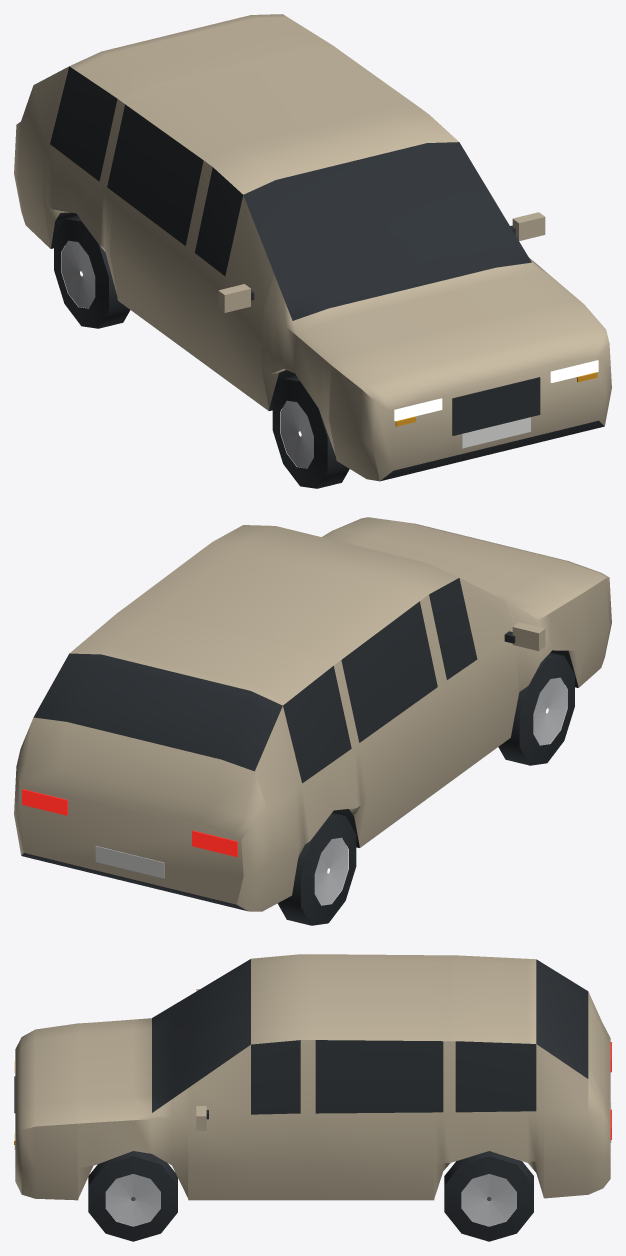
The model's file is suv_beige_lod1.glb.
3 views of the same model, one above another, from view 1: azimuth 30°, elevation 25°; view 2: azimuth 150°, elevation 25°; view 3: azimuth 270°, elevation 25° (orthographic). The views are drawn at different scales.
Visible parts, largest first — view 1: suv_beige_lod1; view 2: suv_beige_lod1; view 3: suv_beige_lod1.
Boxes of the visible parts, x1,y1,x2,y2 form: suv_beige_lod1: (14,14,611,488); suv_beige_lod1: (14,517,611,925); suv_beige_lod1: (14,954,611,1241).
Size of the model in its own units: 0.1215 by 0.0895 by 0.2411.
